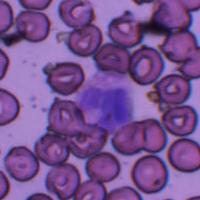M: (77, 70, 135, 132)
